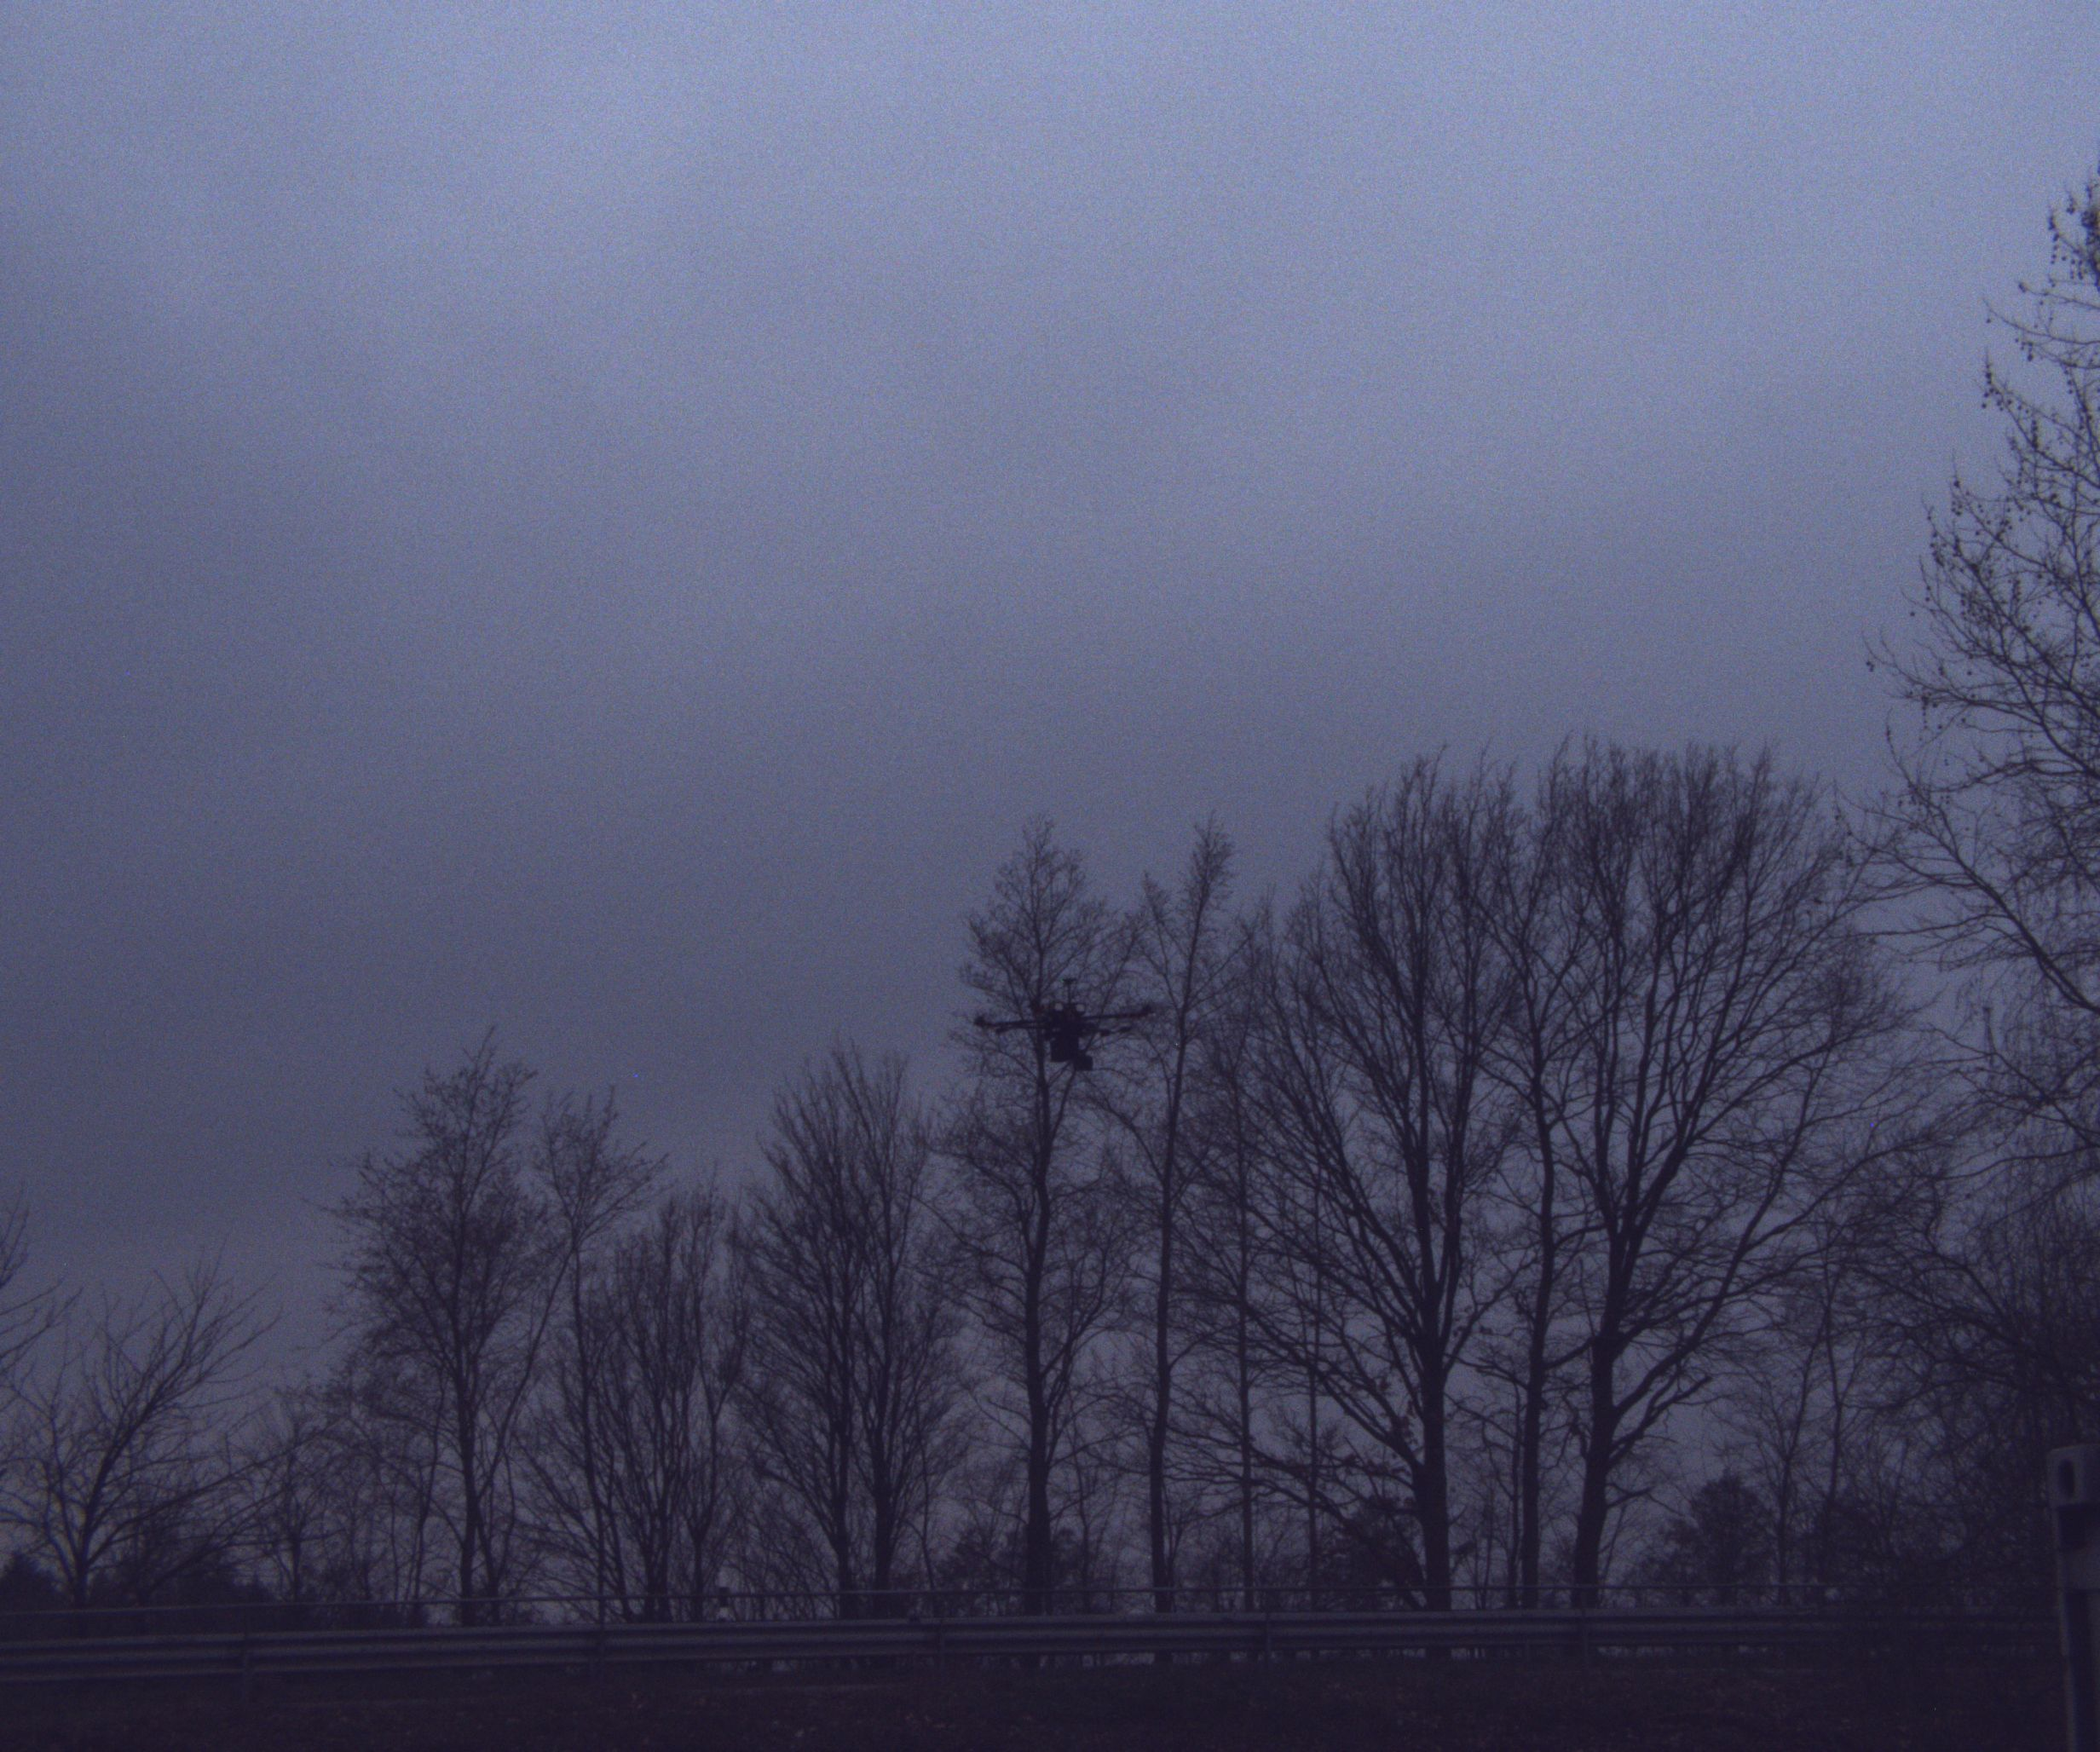Drohne: (940, 950, 1200, 1114)
